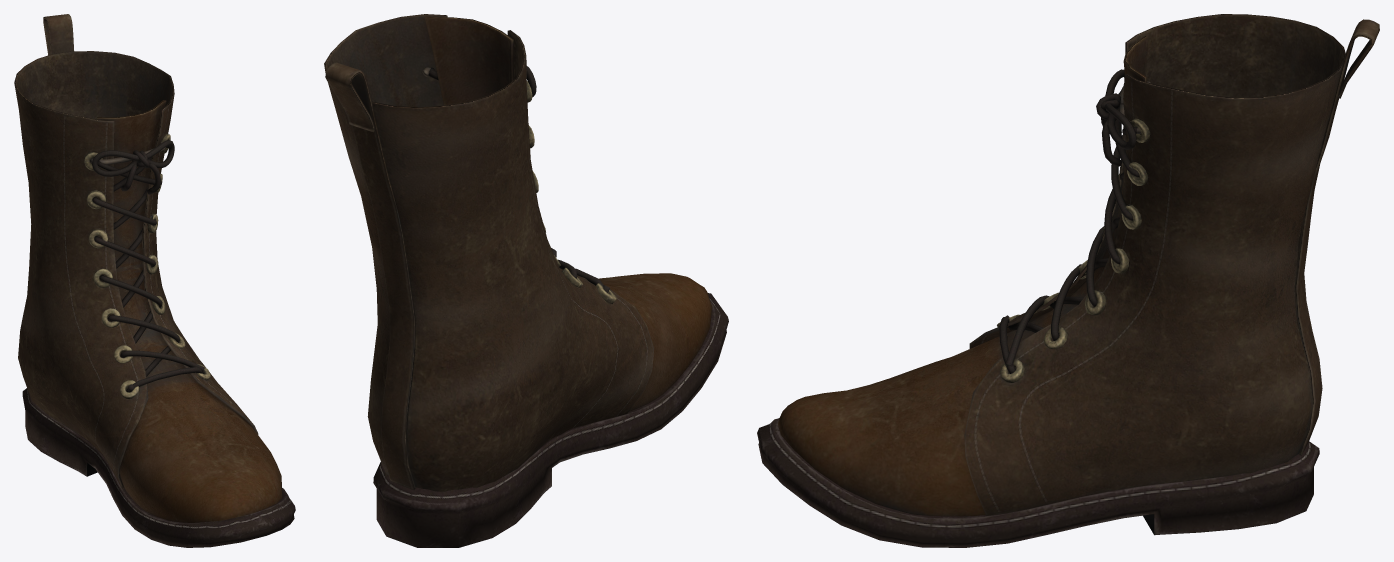
The model's file is procedural_shoe_test_2.glb.
3 views of the same model, side by side, from view 1: azimuth 30°, elevation 25°; view 2: azimuth 150°, elevation 25°; view 3: azimuth 270°, elevation 25° (orthographic). The views are drawn at different scales.
Parts seen in each view (by area): view 1: main_low, lace_low; view 2: main_low, lace_low; view 3: main_low, lace_low.
Part boxes in pixels (box(x1,y1,x2,y2)): main_low: box(14, 14, 295, 547); lace_low: box(84, 134, 210, 398); main_low: box(324, 14, 728, 547); lace_low: box(422, 66, 616, 303); main_low: box(757, 14, 1379, 547); lace_low: box(997, 69, 1150, 382).
Size of the model in its own units: 0.1004 by 0.2531 by 0.291.
Materials: 1 (1 with a texture image).
